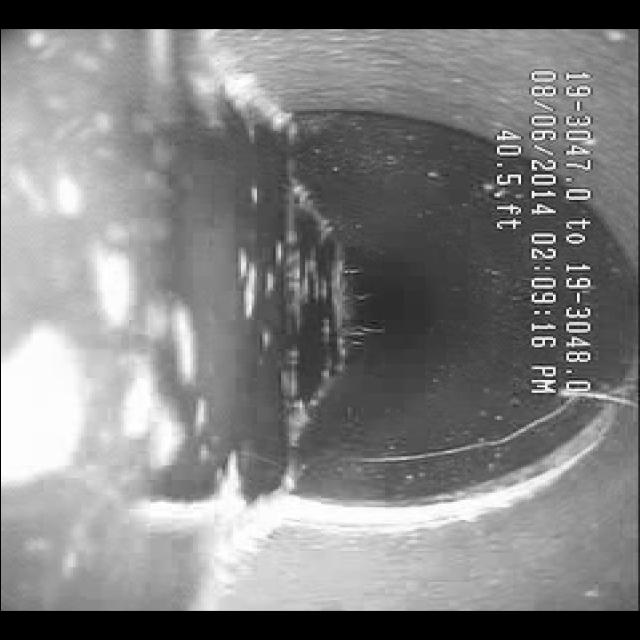Crack: (339, 400, 562, 468)
